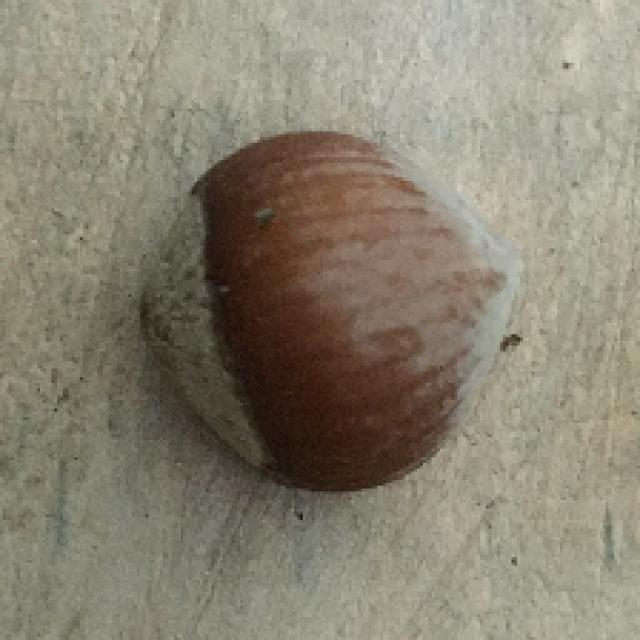qualityHazelnut: (126, 138, 530, 494)
